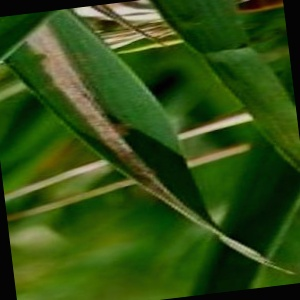Leaf_Blast: (21, 25, 125, 164)
